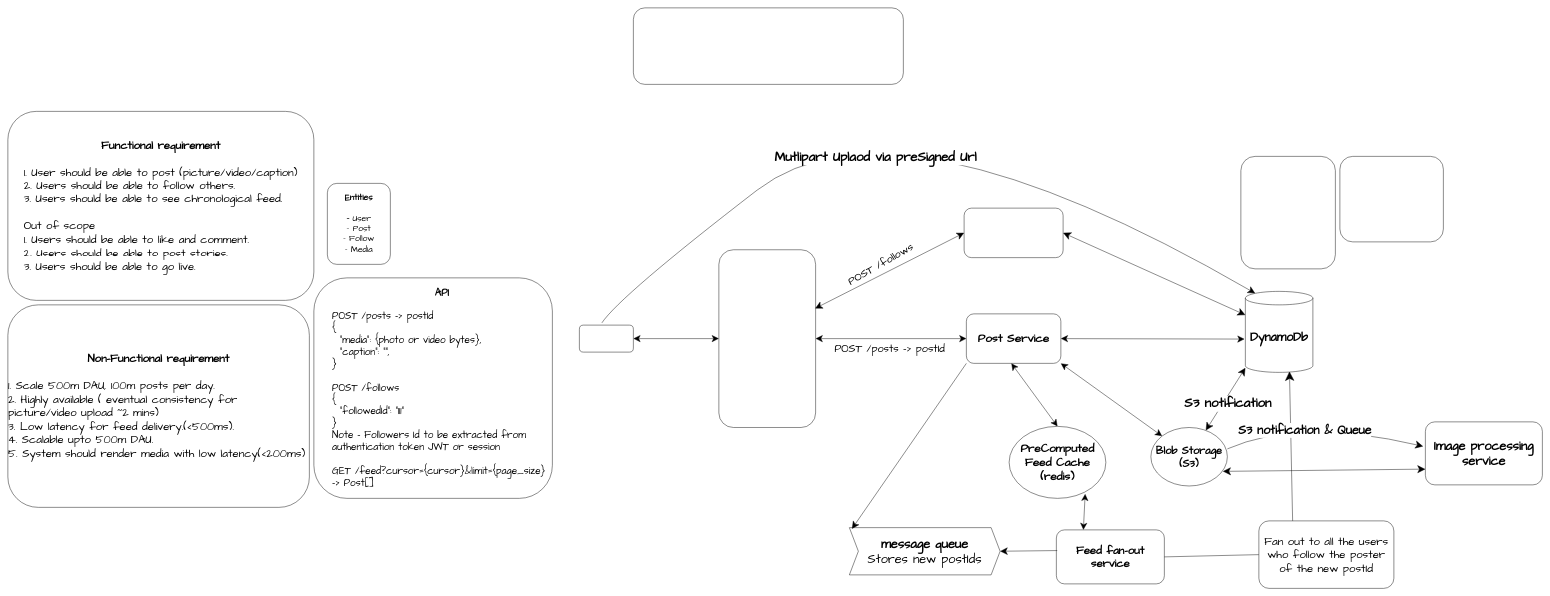
The diagram is 1550 pixels wide and 596 high, and some of its shapes have lost their labels. The shapes that lost their labels are listed below. From the top down, each one's box as (x1, y1, x2, y2) in pixels, then its label:
(633, 7, 903, 84): Social Media App
(1240, 156, 1335, 269): Post -id -user -mediaS3Link -caption -createdAt
(1339, 156, 1443, 242): Follow - followerId(PK) -followedId(SK)
(964, 208, 1063, 258): Follow Service
(579, 325, 633, 352): Client
(718, 249, 816, 428): API gateway -routing -Authorization -Authentication
